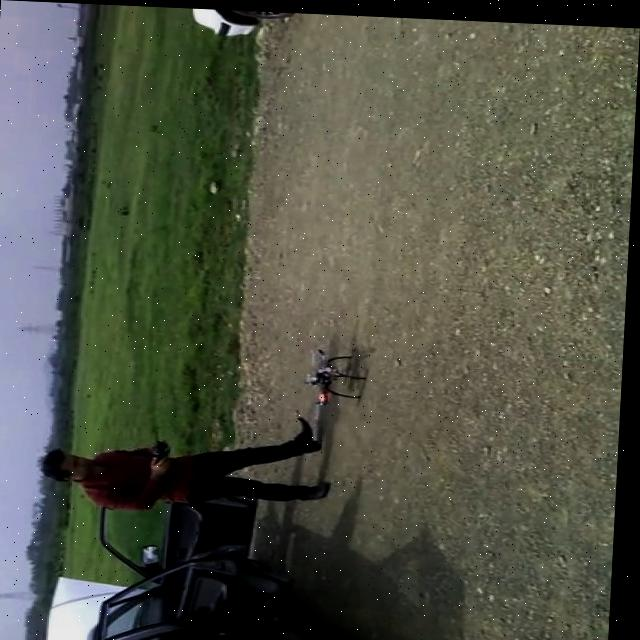drone: (304, 343, 368, 413)
